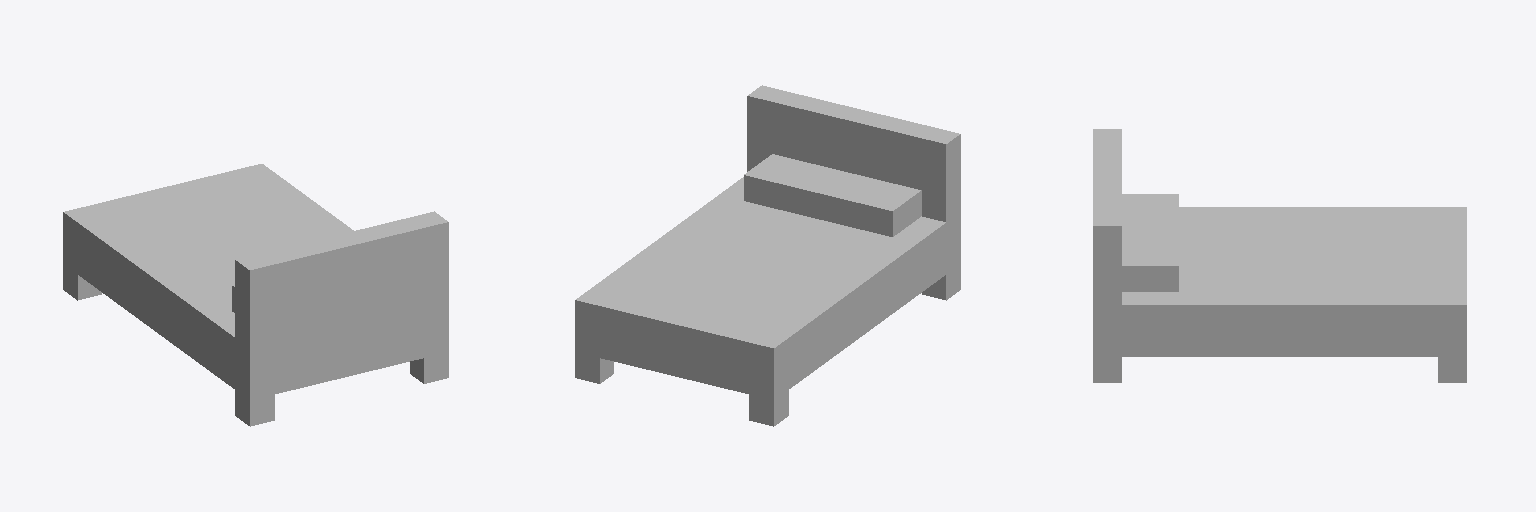
The model's file is bed.obj.
3 renders of one model, left to right at view 1: azimuth 30°, elevation 25°; view 2: azimuth 150°, elevation 25°; view 3: azimuth 270°, elevation 25°, orthographic.
Parts seen in each view (by area): view 1: cube; view 2: cube; view 3: cube.
Boxes of the visible parts, box(x1,y1,x2,y2) form: cube: box(63, 164, 448, 426); cube: box(575, 85, 960, 426); cube: box(1093, 129, 1466, 382).
Size of the model in its own units: 0.5 by 0.375 by 0.8125.